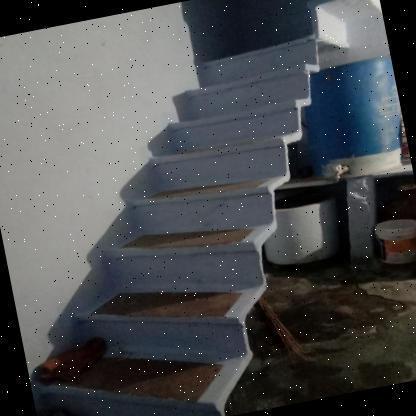stair: (0, 28, 382, 416)
